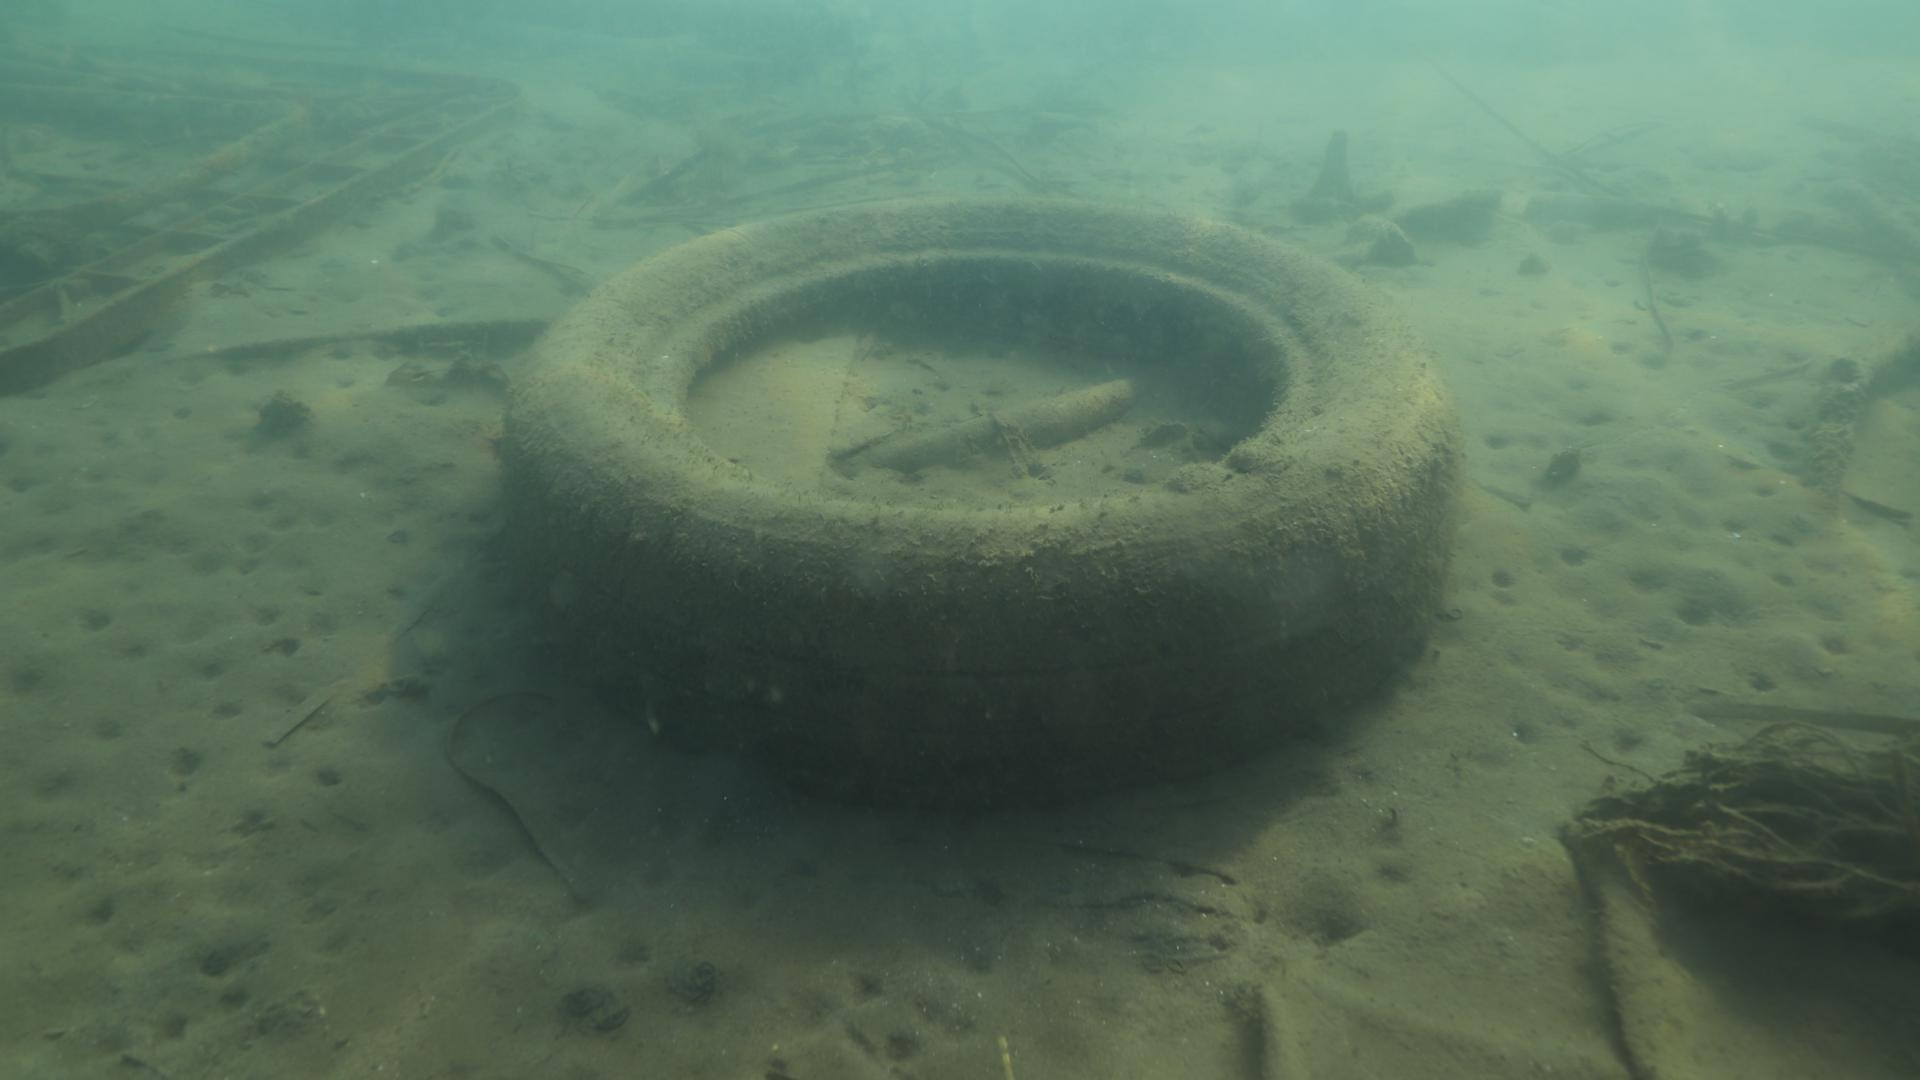tire: (498, 200, 1451, 808)
